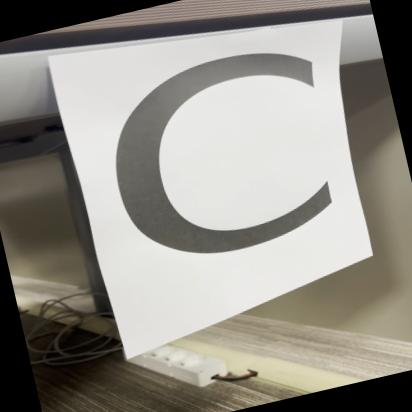seat: (58, 0, 372, 320)
